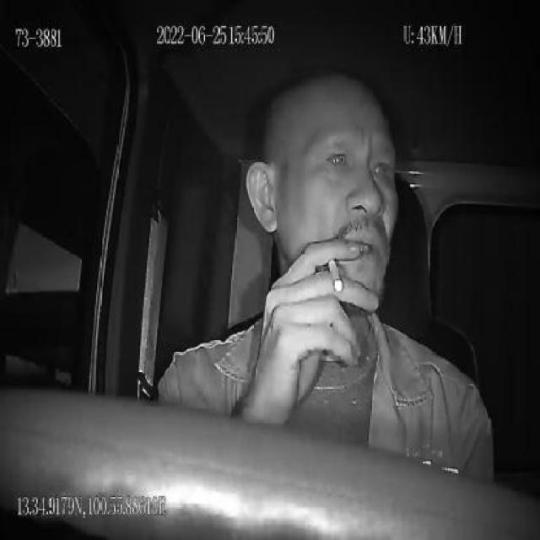smoking: (328, 260, 344, 294)
